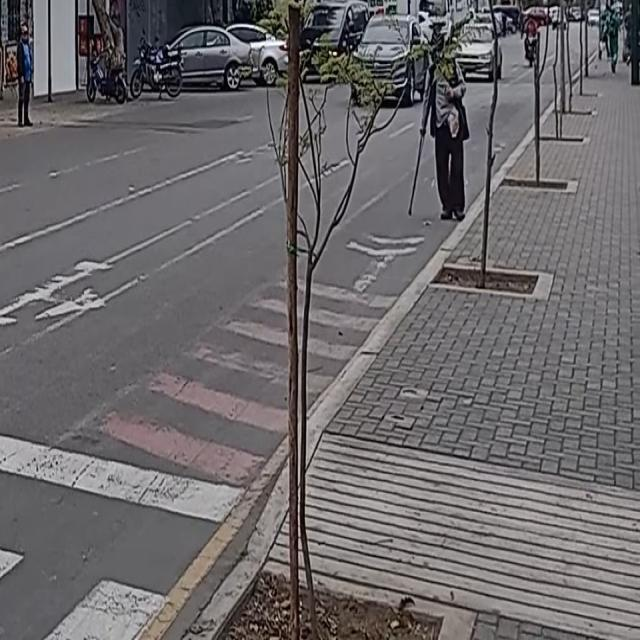car: (149, 23, 256, 94), (354, 8, 428, 104), (203, 22, 292, 85), (451, 17, 506, 90)
motorcycle: (131, 31, 183, 103), (521, 15, 542, 70)
